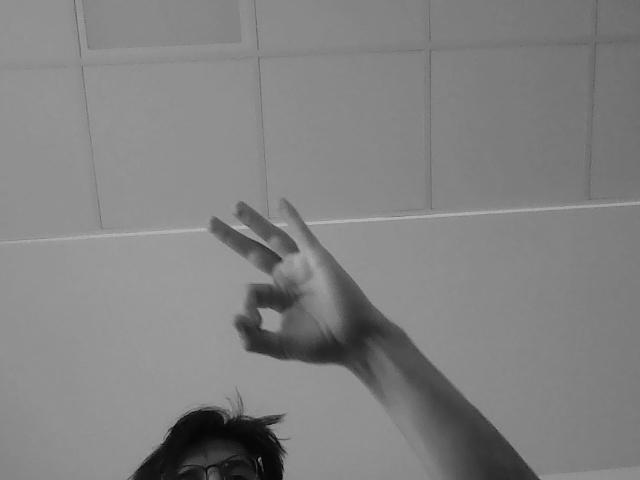OK: (205, 197, 371, 366)
